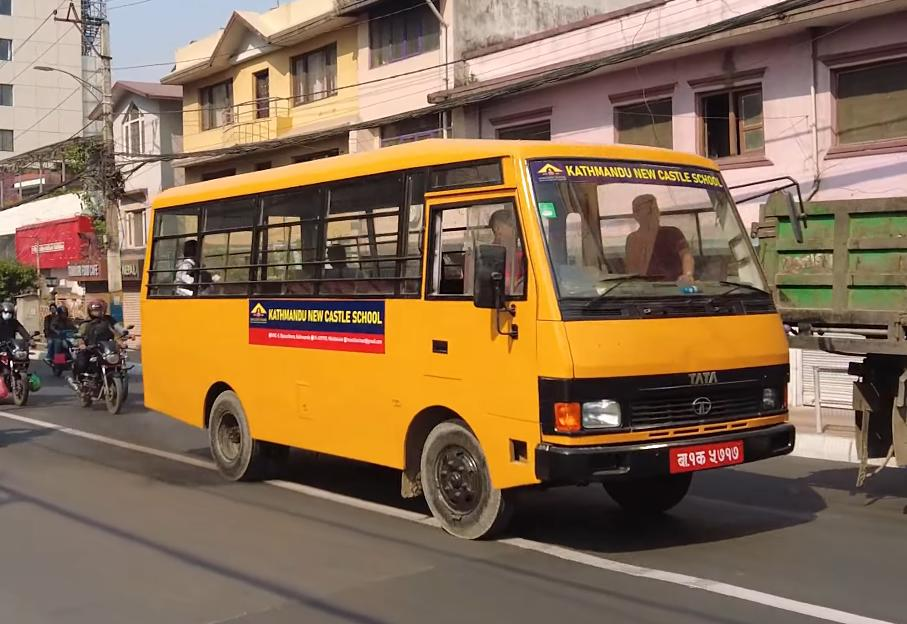bike: (66, 327, 132, 413), (0, 325, 44, 408)
school_bus: (132, 132, 799, 552)
